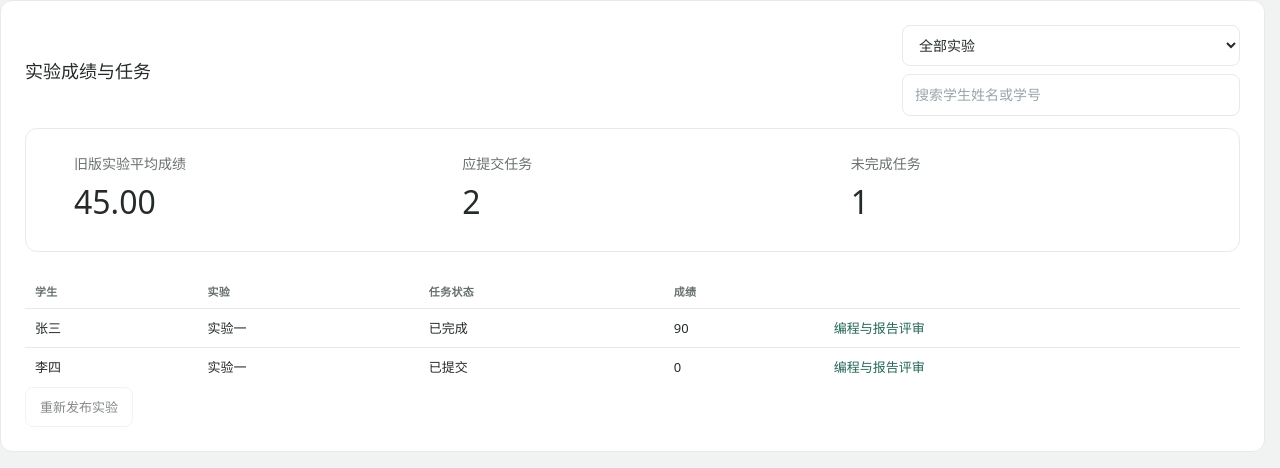
Test: searches all experiment rows by student and links to that task's review
This screenshot has width=1280, height=468.
Expected: the text "张三" is shown, [25,308,198,348]
Expected: the text "李四" is shown, [25,348,198,387]
Type "李四" into the search field named "搜索全部实验中的学生".
click(1071, 95); type("李四")  # box [902,74,1240,116]
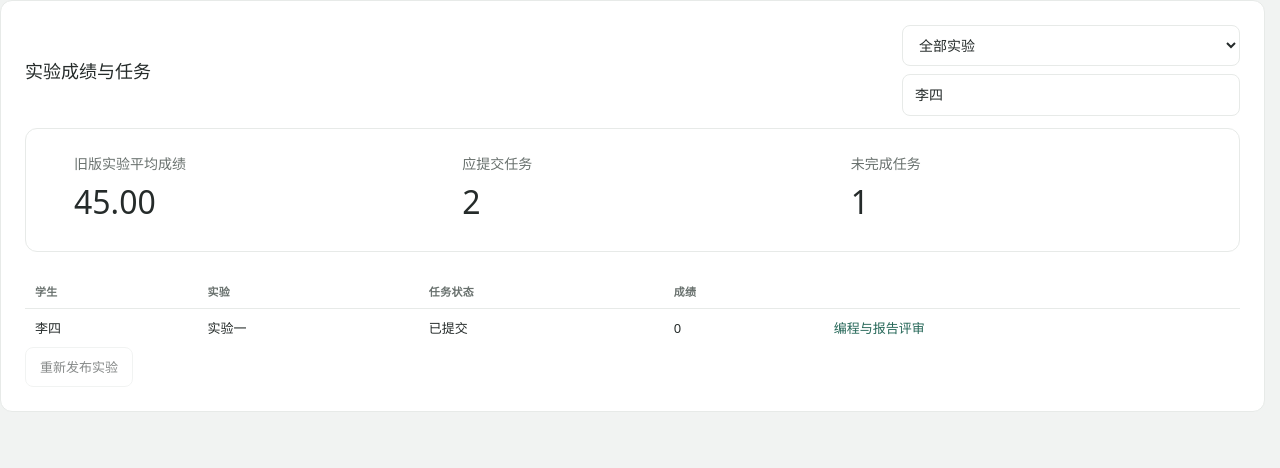
Expected: the text "李四" is shown, [25,308,198,347]
Expected: the text "张三" is gone
